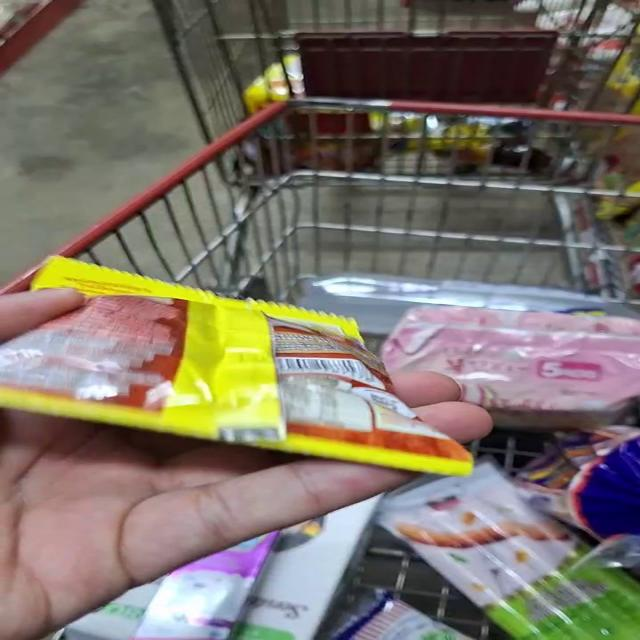Maggi Cukup Rasa: (7, 241, 474, 477)
Tisu: (295, 505, 384, 611)
Ubat Gigi: (120, 538, 296, 640)
